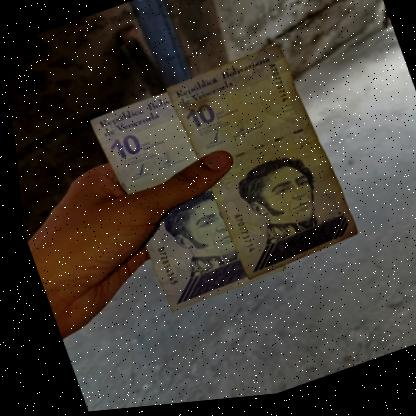ten-front-vef: (158, 39, 359, 293), (83, 86, 244, 323)
